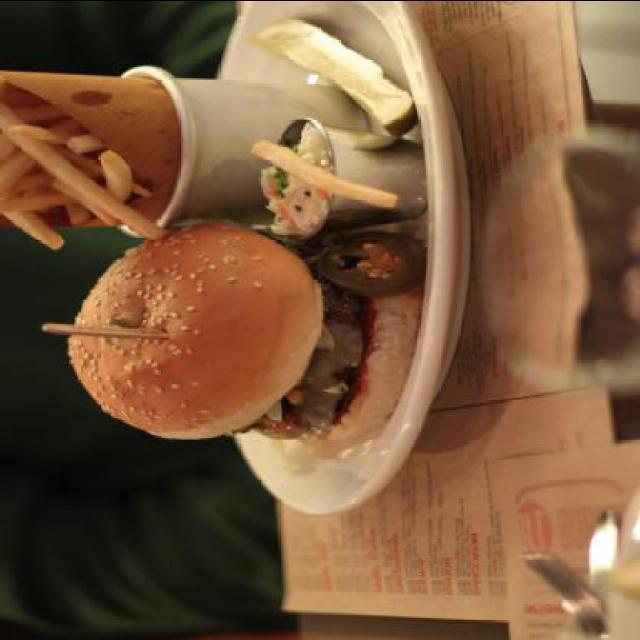Hamburger: (69, 218, 422, 462)
